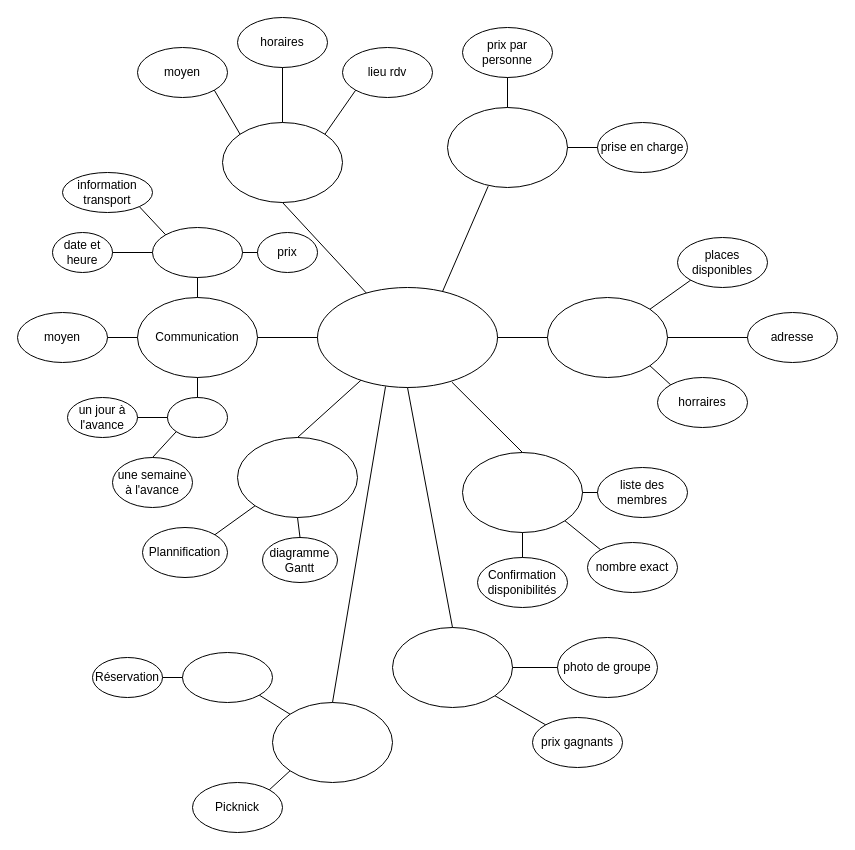
This 855x850 diagram has some shape labels left out. Each missing label, with the centre of its shape:
activité ludique: (x=452, y=667)
Budget: (x=507, y=147)
Infos à partager: (x=197, y=252)
Lieu: (x=607, y=337)
Nourriture: (x=332, y=742)
Organisation: (x=297, y=477)
Participants: (x=522, y=492)
rappel: (x=197, y=417)
Restaurant: (x=227, y=677)
Sortie Escape Game: (x=407, y=337)
Transport: (x=282, y=162)
